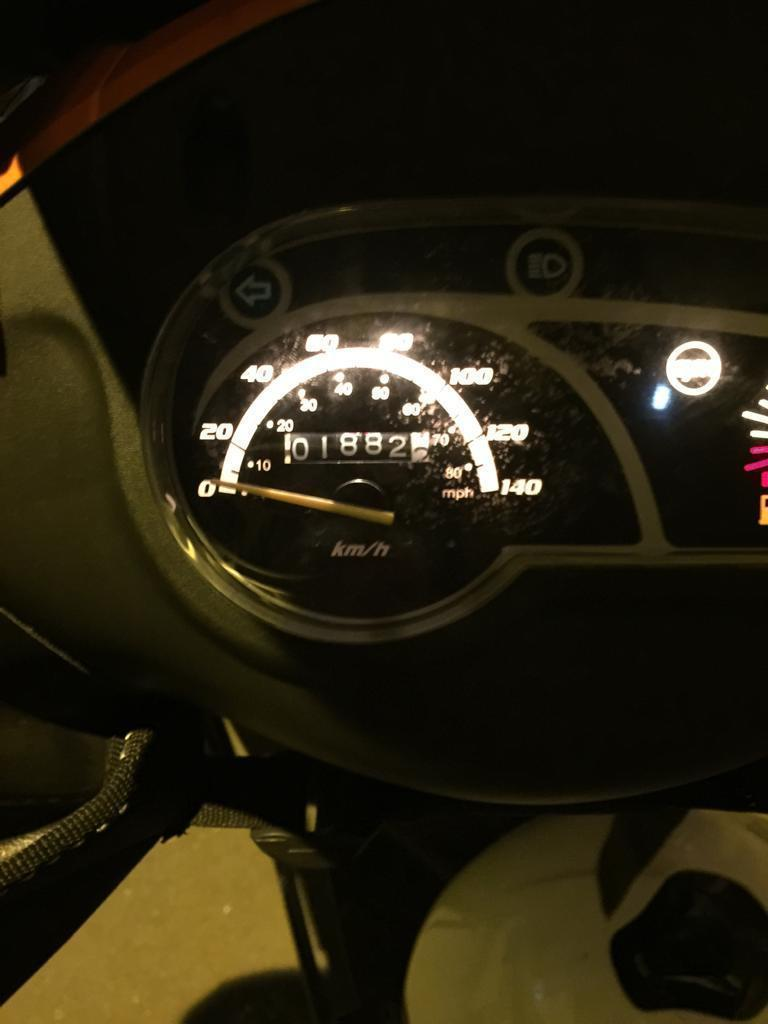0: (291, 436, 309, 460)
1: (320, 434, 329, 459)
2: (387, 434, 407, 458), (413, 444, 431, 464)
8: (339, 431, 358, 457), (364, 432, 382, 456)
odometer: (280, 430, 432, 466)
